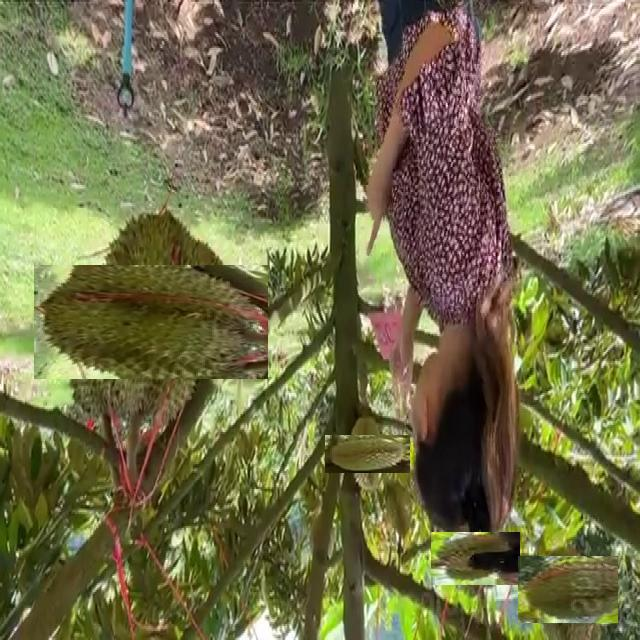durian: (64, 234, 238, 409), (525, 548, 610, 632), (440, 523, 512, 594), (336, 423, 398, 485), (382, 480, 414, 542)
